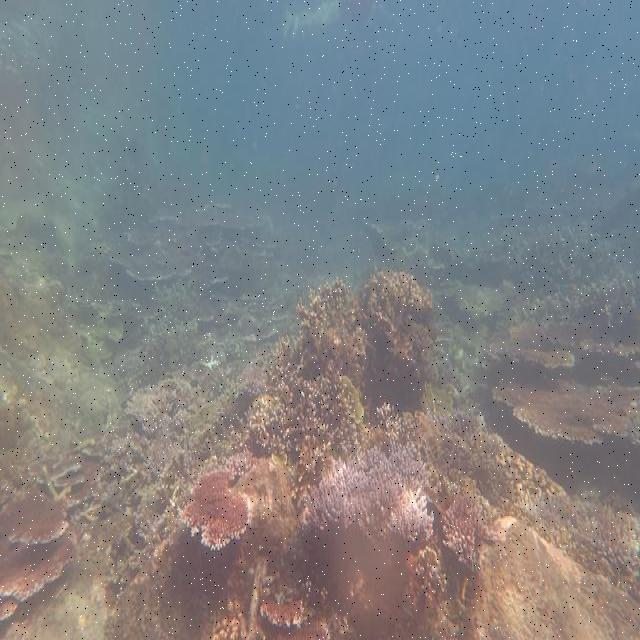reefs: (231, 279, 372, 474), (487, 321, 638, 445), (302, 436, 440, 543), (1, 489, 80, 619), (364, 268, 432, 358), (180, 468, 251, 549)
